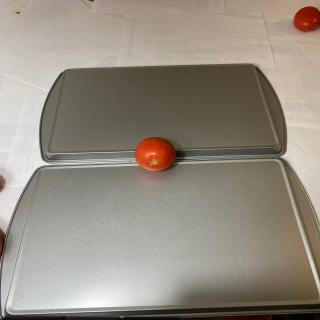Tomato: (134, 137, 176, 171), (293, 6, 320, 32)
